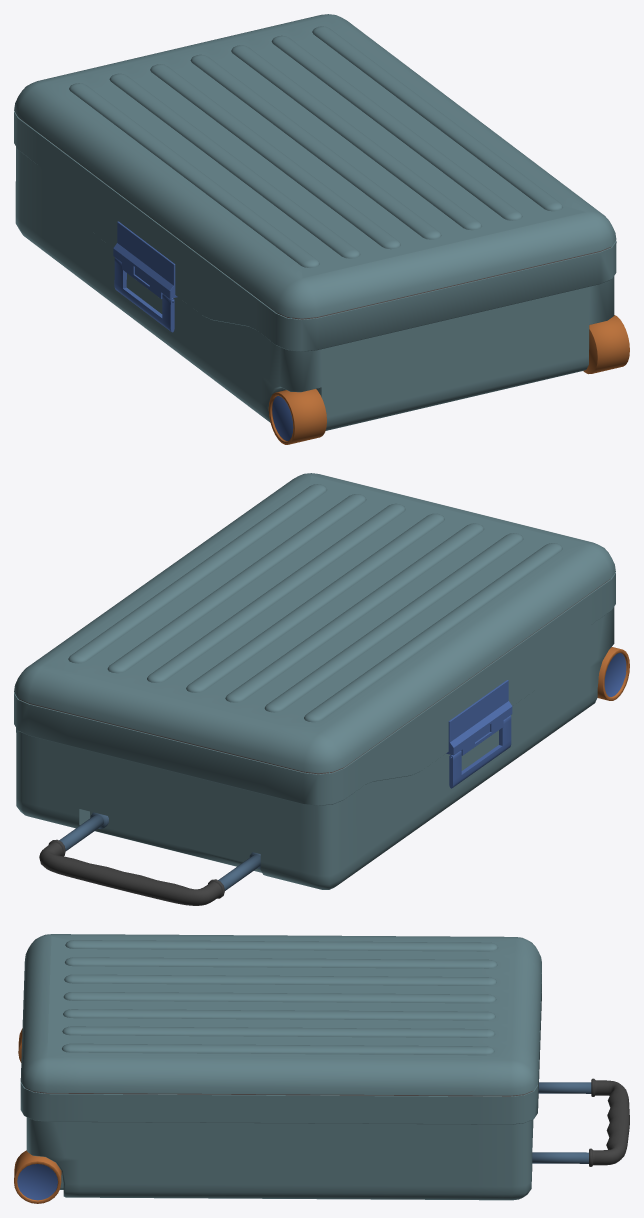
File: SUITECASE 22.fbx
The picture shows the model from 3 angles, top to bottom: view 1: azimuth 30°, elevation 25°; view 2: azimuth 150°, elevation 25°; view 3: azimuth 270°, elevation 25°; orthographic projection. The views are drawn at different scales.
Parts seen in each view (by area): view 1: deksel, bodem; view 2: deksel, bodem; view 3: deksel, bodem.
Boxes of the visible parts, x1,y1,x2,y2 form: deksel: (14,14,616,351); bodem: (15,147,629,444); deksel: (14,473,615,805); bodem: (16,607,629,905); deksel: (20,934,541,1124); bodem: (14,1028,629,1203).
Size of the model in its own units: 198 by 87.96 by 350.
